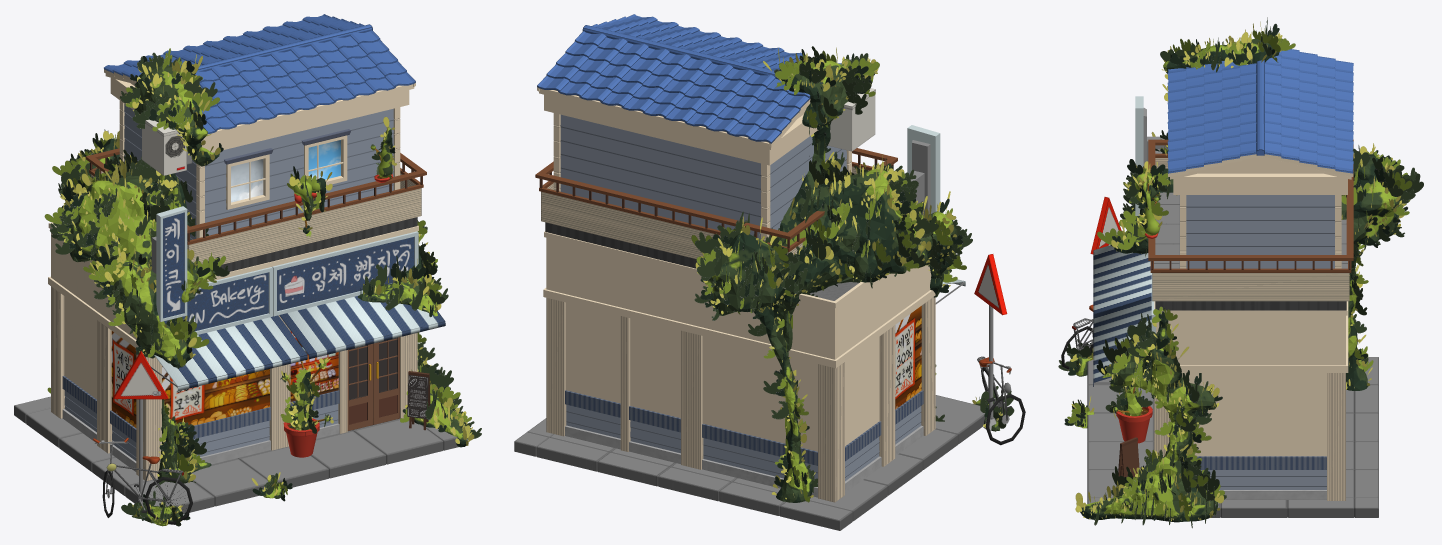
Rendered from kobakery.fbx.
3 views of the same model, side by side, from view 1: azimuth 30°, elevation 25°; view 2: azimuth 150°, elevation 25°; view 3: azimuth 270°, elevation 25° (orthographic). The views are drawn at different scales.
Parts seen in each view (by area): view 1: bakery; view 2: bakery; view 3: bakery.
Part boxes in pixels (box(x1,y1,x2,y2)): bakery: box(14, 14, 481, 526); bakery: box(514, 14, 1025, 530); bakery: box(1058, 17, 1423, 528).
Size of the model in its own units: 463 by 460 by 393.
